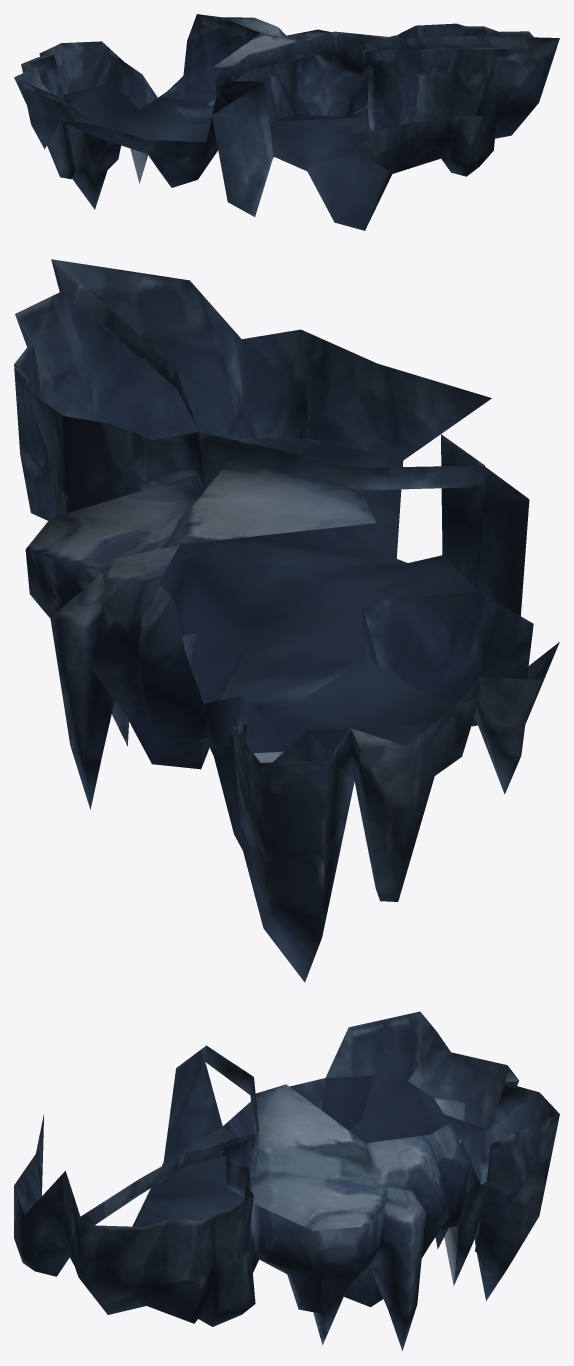
File: Area_04_6.fbx
3 renders of one model, top to bottom at view 1: azimuth 30°, elevation 25°; view 2: azimuth 150°, elevation 25°; view 3: azimuth 270°, elevation 25°, orthographic. The views are drawn at different scales.
Visible parts, largest first — view 1: Area_04_6; view 2: Area_04_6; view 3: Area_04_6.
Part boxes in pixels (x1,y1,x2,y2): Area_04_6: (14,14,559,230); Area_04_6: (14,259,559,982); Area_04_6: (14,1011,559,1350).
Bounding box in the file's own units: 4000 × 2017 × 3652.
